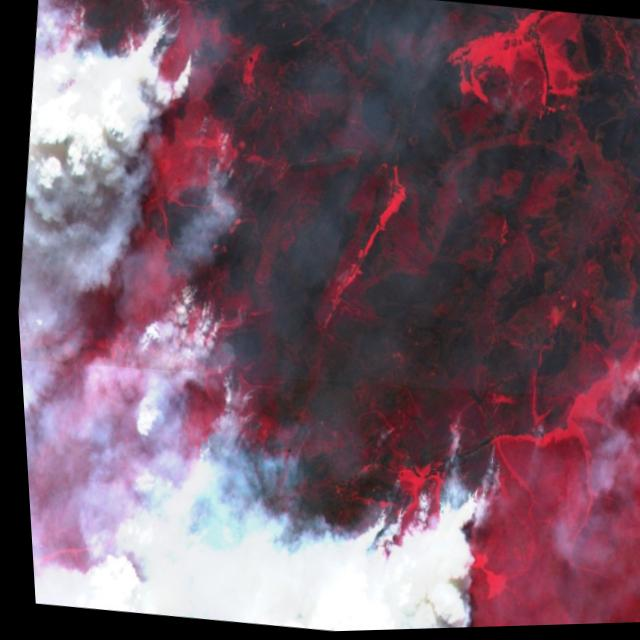fire: (162, 368, 511, 637), (28, 0, 212, 92), (177, 106, 249, 204), (156, 279, 222, 366)
